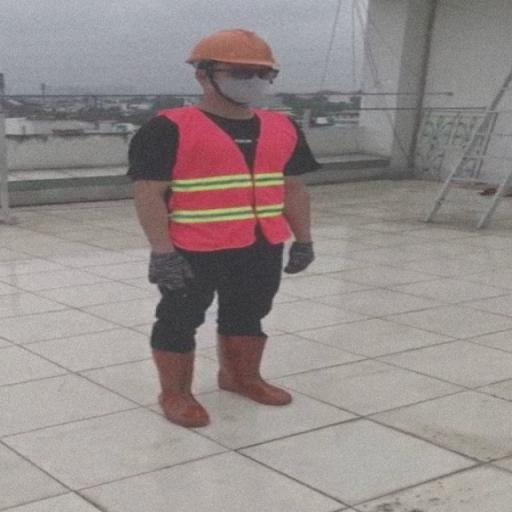Person: (122, 8, 332, 446)
boots: (132, 326, 216, 439), (208, 326, 301, 413)
gloves: (140, 247, 200, 297), (285, 236, 314, 278)
goggles: (196, 55, 278, 92)
helmet: (178, 24, 288, 71)
vest: (159, 102, 292, 255)
